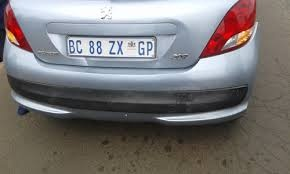Scratch: (78, 57, 91, 68)
